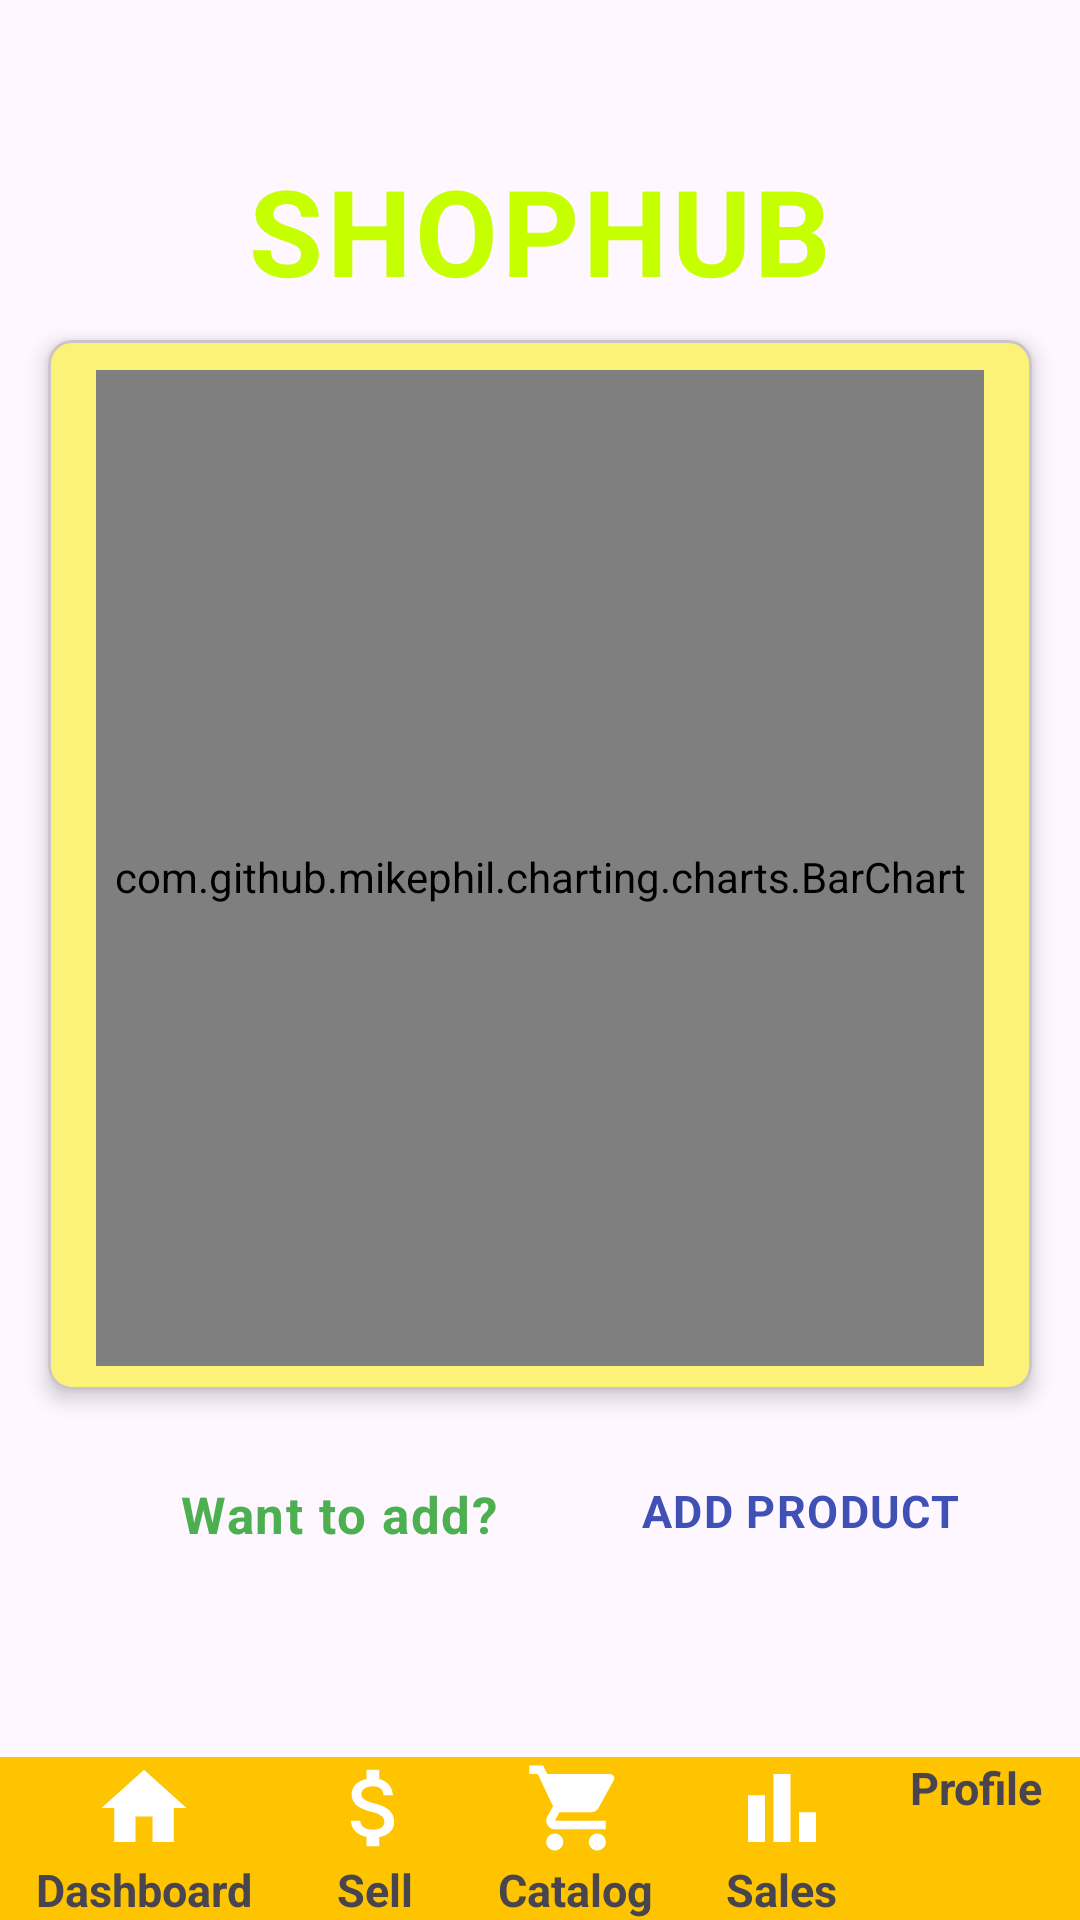

Named icons in this screenshot (1080×1920) and their bounding boxes, (x1, y1, x2, y2):
analytics: (748, 1774, 816, 1842)
